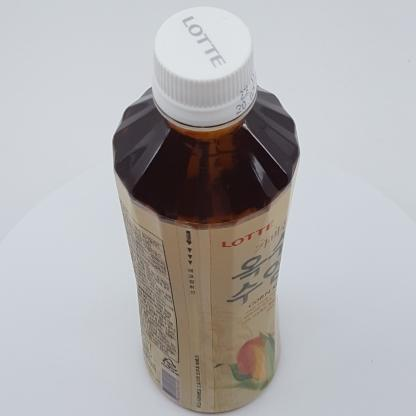--------500ML: (112, 6, 300, 413)
